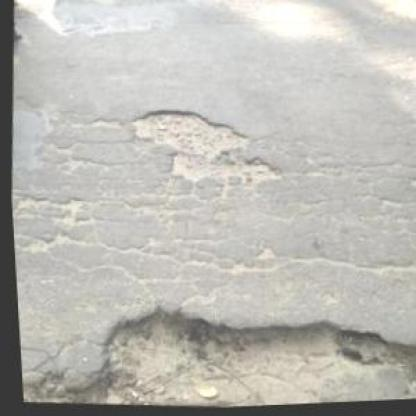pothole: (15, 283, 415, 414), (125, 102, 288, 192)
